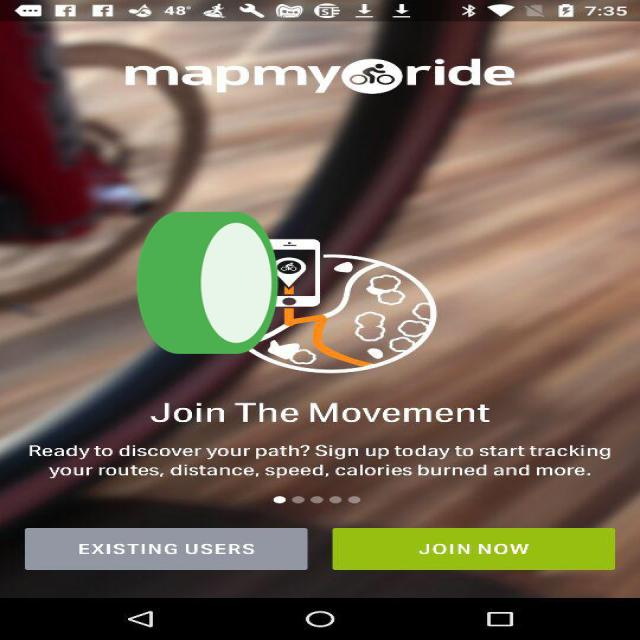social proof: (130, 158, 284, 420)
